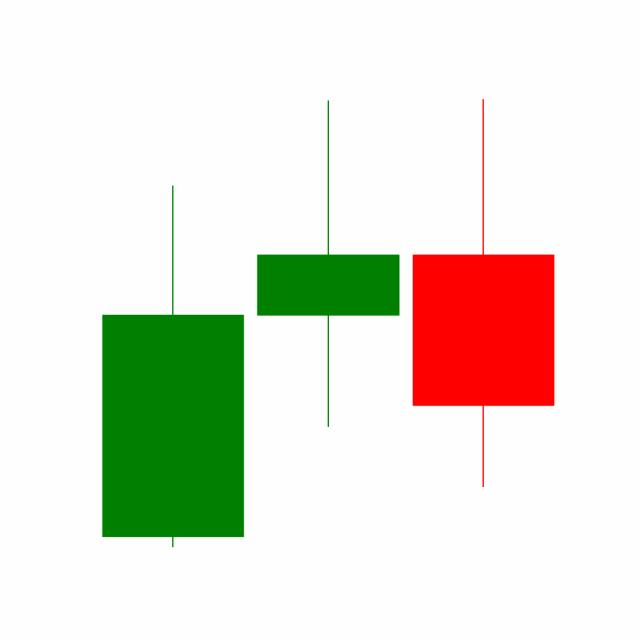Spinning Top: (249, 97, 406, 430)
